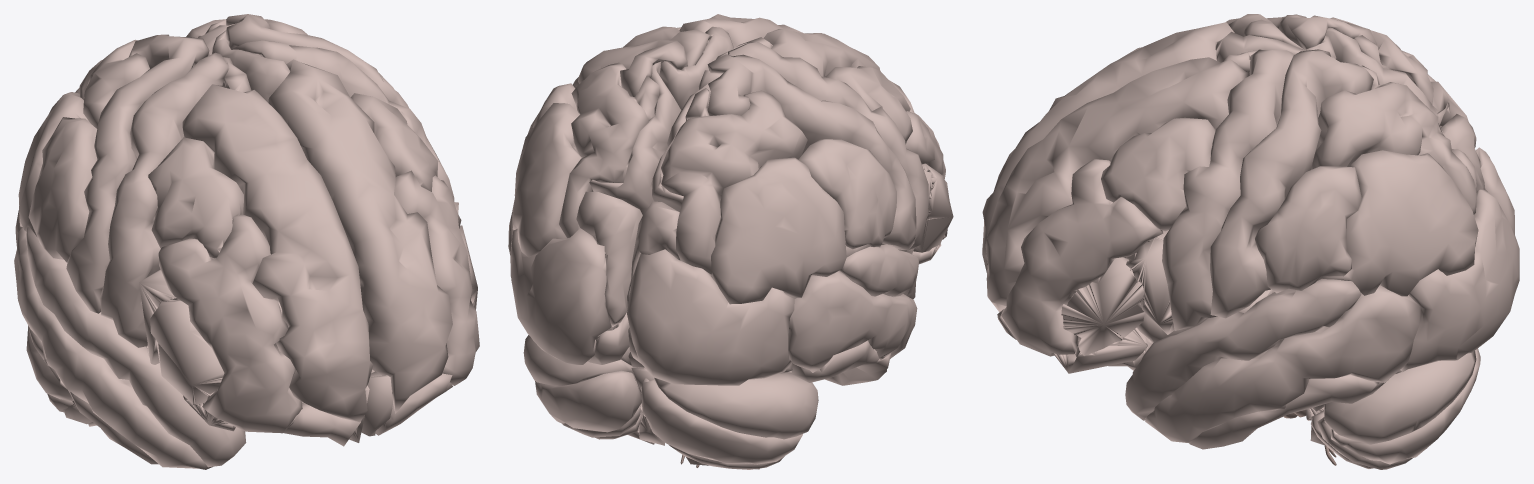
The model's file is atlas_nervous_mni152.nervous.LOD3.glb.
3 views of the same model, side by side, from view 1: azimuth 30°, elevation 25°; view 2: azimuth 150°, elevation 25°; view 3: azimuth 270°, elevation 25° (orthographic). The views are drawn at different scales.
Parts seen in each view (by area): view 1: ATLAS.NERVOUS.MNI152.NERVOUS.SUPERIOR_FRONTAL_GYRUS.R, ATLAS.NERVOUS.MNI152.NERVOUS.SUPERIOR_FRONTAL_GYRUS.L, ATLAS.NERVOUS.MNI152.NERVOUS.ROSTRAL_MIDDLE_FRONTAL_GYRUS.R, ATLAS.NERVOUS.MNI152.NERVOUS.PRECENTRAL_GYRUS.R, ATLAS.NERVOUS.MNI152.NERVOUS.SUPERIOR_TEMPORAL_GYRUS.R, ATLAS.NERVOUS.MNI152.NERVOUS.POSTCENTRAL_GYRUS.R, ATLAS.NERVOUS.MNI152.NERVOUS.MIDDLE_TEMPORAL_GYRUS.R, ATLAS.NERVOUS.MNI152.NERVOUS.CAUDAL_MIDDLE_FRONTAL_GYRUS.R, ATLAS.NERVOUS.MNI152.NERVOUS.ROSTRAL_MIDDLE_FRONTAL_GYRUS.L, ATLAS.NERVOUS.MNI152.NERVOUS.SUPRAMARGINAL_GYRUS.R, ATLAS.NERVOUS.MNI152.NERVOUS.INFERIOR_FRONTAL_GYRUS_PARS_TRI, ATLAS.NERVOUS.MNI152.NERVOUS.PRECENTRAL_GYRUS.L (+13 smaller); view 2: ATLAS.NERVOUS.MNI152.NERVOUS.INFERIOR_PARIETAL_LOBULE_ANGULA (×2), ATLAS.NERVOUS.MNI152.NERVOUS.LATERAL_OCCIPITAL_CORTEX.R, ATLAS.NERVOUS.MNI152.NERVOUS.SUPERIOR_PARIETAL_LOBULE.R, ATLAS.NERVOUS.MNI152.NERVOUS.LATERAL_OCCIPITAL_CORTEX.L, ATLAS.NERVOUS.MNI152.NERVOUS.POSTCENTRAL_GYRUS.R, ATLAS.NERVOUS.MNI152.NERVOUS.MIDDLE_TEMPORAL_GYRUS.R, ATLAS.NERVOUS.MNI152.NERVOUS.SUPERIOR_PARIETAL_LOBULE.L, ATLAS.NERVOUS.MNI152.NERVOUS.CRUS_I.R, ATLAS.NERVOUS.MNI152.NERVOUS.SUPRAMARGINAL_GYRUS.R, ATLAS.NERVOUS.MNI152.NERVOUS.CRUS_II.R, ATLAS.NERVOUS.MNI152.NERVOUS.PRECENTRAL_GYRUS.R, ATLAS.NERVOUS.MNI152.NERVOUS.CRUS_II.L (+19 smaller); view 3: ATLAS.NERVOUS.MNI152.NERVOUS.SUPERIOR_FRONTAL_GYRUS.L, ATLAS.NERVOUS.MNI152.NERVOUS.MIDDLE_TEMPORAL_GYRUS.L, ATLAS.NERVOUS.MNI152.NERVOUS.INFERIOR_PARIETAL_LOBULE_ANGULA, ATLAS.NERVOUS.MNI152.NERVOUS.POSTCENTRAL_GYRUS.L, ATLAS.NERVOUS.MNI152.NERVOUS.ROSTRAL_MIDDLE_FRONTAL_GYRUS.L, ATLAS.NERVOUS.MNI152.NERVOUS.PRECENTRAL_GYRUS.L, ATLAS.NERVOUS.MNI152.NERVOUS.SUPERIOR_TEMPORAL_GYRUS.L, ATLAS.NERVOUS.MNI152.NERVOUS.LATERAL_OCCIPITAL_CORTEX.L, ATLAS.NERVOUS.MNI152.NERVOUS.SUPERIOR_PARIETAL_LOBULE.L, ATLAS.NERVOUS.MNI152.NERVOUS.SUPRAMARGINAL_GYRUS.L, ATLAS.NERVOUS.MNI152.NERVOUS.CAUDAL_MIDDLE_FRONTAL_GYRUS.L, ATLAS.NERVOUS.MNI152.NERVOUS.CRUS_I.L (+15 smaller).
Boxes of the visible parts, x1,y1,x2,y2 form: ATLAS.NERVOUS.MNI152.NERVOUS.SUPERIOR_FRONTAL_GYRUS.R: (182,84,373,422); ATLAS.NERVOUS.MNI152.NERVOUS.SUPERIOR_FRONTAL_GYRUS.L: (268,59,452,413); ATLAS.NERVOUS.MNI152.NERVOUS.ROSTRAL_MIDDLE_FRONTAL_GYRUS.R: (158,214,302,433); ATLAS.NERVOUS.MNI152.NERVOUS.PRECENTRAL_GYRUS.R: (100,52,228,347); ATLAS.NERVOUS.MNI152.NERVOUS.SUPERIOR_TEMPORAL_GYRUS.R: (26,227,246,467); ATLAS.NERVOUS.MNI152.NERVOUS.POSTCENTRAL_GYRUS.R: (66,34,209,313); ATLAS.NERVOUS.MNI152.NERVOUS.MIDDLE_TEMPORAL_GYRUS.R: (14,227,212,469); ATLAS.NERVOUS.MNI152.NERVOUS.CAUDAL_MIDDLE_FRONTAL_GYRUS.R: (148,137,243,258); ATLAS.NERVOUS.MNI152.NERVOUS.ROSTRAL_MIDDLE_FRONTAL_GYRUS.L: (394,170,479,385); ATLAS.NERVOUS.MNI152.NERVOUS.SUPRAMARGINAL_GYRUS.R: (28,117,97,262); ATLAS.NERVOUS.MNI152.NERVOUS.INFERIOR_FRONTAL_GYRUS_PARS_TRI: (150,298,224,404); ATLAS.NERVOUS.MNI152.NERVOUS.PRECENTRAL_GYRUS.L: (232,40,454,201); ATLAS.NERVOUS.MNI152.NERVOUS.INFERIOR_PARIETAL_LOBULE_ANGULA (×2): (512,103,869,304); ATLAS.NERVOUS.MNI152.NERVOUS.LATERAL_OCCIPITAL_CORTEX.R: (627,249,794,385); ATLAS.NERVOUS.MNI152.NERVOUS.SUPERIOR_PARIETAL_LOBULE.R: (661,88,807,274); ATLAS.NERVOUS.MNI152.NERVOUS.LATERAL_OCCIPITAL_CORTEX.L: (510,228,611,364); ATLAS.NERVOUS.MNI152.NERVOUS.POSTCENTRAL_GYRUS.R: (707,54,916,250); ATLAS.NERVOUS.MNI152.NERVOUS.MIDDLE_TEMPORAL_GYRUS.R: (788,270,917,372); ATLAS.NERVOUS.MNI152.NERVOUS.SUPERIOR_PARIETAL_LOBULE.L: (559,62,659,238); ATLAS.NERVOUS.MNI152.NERVOUS.CRUS_I.R: (654,372,818,439); ATLAS.NERVOUS.MNI152.NERVOUS.SUPRAMARGINAL_GYRUS.R: (798,139,896,249); ATLAS.NERVOUS.MNI152.NERVOUS.CRUS_II.R: (641,379,802,464); ATLAS.NERVOUS.MNI152.NERVOUS.PRECENTRAL_GYRUS.R: (727,42,928,251); ATLAS.NERVOUS.MNI152.NERVOUS.CRUS_II.L: (535,370,641,432); ATLAS.NERVOUS.MNI152.NERVOUS.SUPERIOR_FRONTAL_GYRUS.L: (985,57,1249,312); ATLAS.NERVOUS.MNI152.NERVOUS.MIDDLE_TEMPORAL_GYRUS.L: (1145,285,1421,443); ATLAS.NERVOUS.MNI152.NERVOUS.INFERIOR_PARIETAL_LOBULE_ANGULA: (1322,150,1478,296); ATLAS.NERVOUS.MNI152.NERVOUS.POSTCENTRAL_GYRUS.L: (1210,49,1373,318); ATLAS.NERVOUS.MNI152.NERVOUS.ROSTRAL_MIDDLE_FRONTAL_GYRUS.L: (1001,159,1163,356); ATLAS.NERVOUS.MNI152.NERVOUS.PRECENTRAL_GYRUS.L: (1162,49,1294,330); ATLAS.NERVOUS.MNI152.NERVOUS.SUPERIOR_TEMPORAL_GYRUS.L: (1125,278,1361,420); ATLAS.NERVOUS.MNI152.NERVOUS.LATERAL_OCCIPITAL_CORTEX.L: (1400,188,1519,372); ATLAS.NERVOUS.MNI152.NERVOUS.SUPERIOR_PARIETAL_LOBULE.L: (1311,65,1476,214); ATLAS.NERVOUS.MNI152.NERVOUS.SUPRAMARGINAL_GYRUS.L: (1255,166,1361,293); ATLAS.NERVOUS.MNI152.NERVOUS.CAUDAL_MIDDLE_FRONTAL_GYRUS.L: (1101,117,1215,231); ATLAS.NERVOUS.MNI152.NERVOUS.CRUS_I.L: (1324,351,1476,444).
Size of the model in its own units: 0.1447 by 0.159 by 0.1812.
